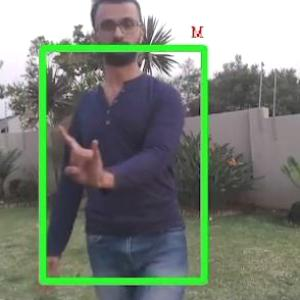takeoff-hand: (53, 119, 106, 193)
